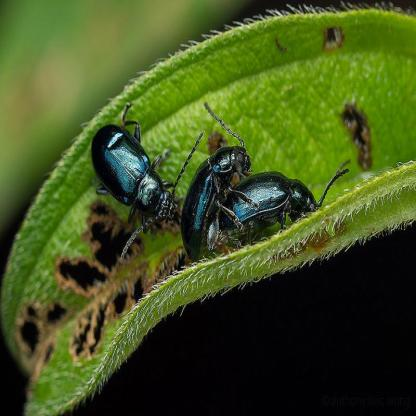beetle: (92, 111, 175, 237), (180, 135, 252, 254), (219, 167, 327, 231)
